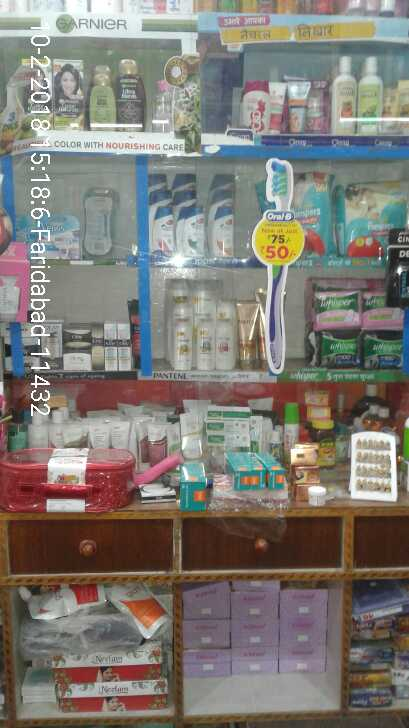venus: (84, 187, 117, 259), (37, 216, 81, 259)
